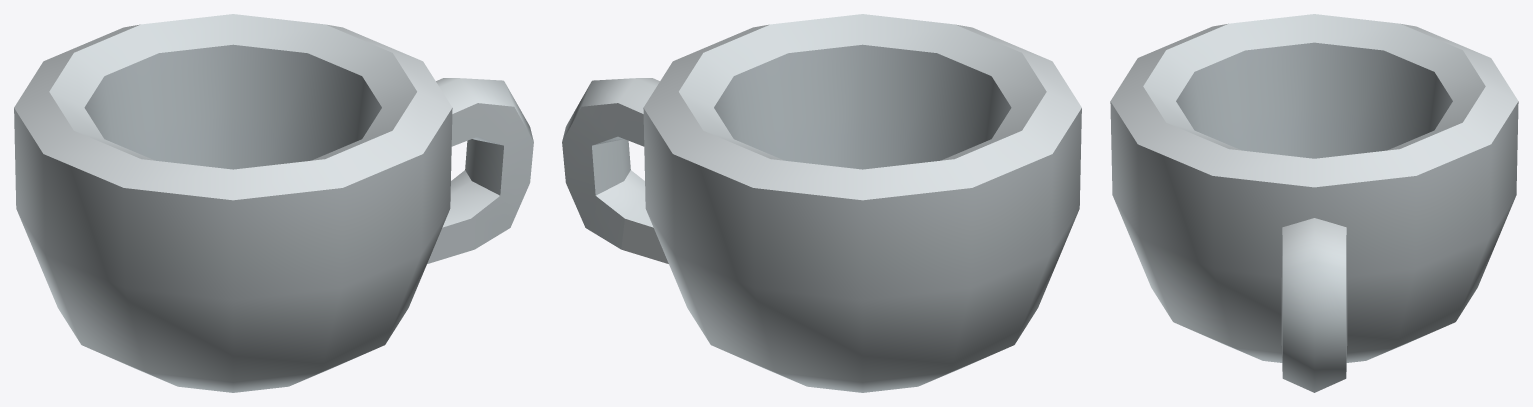
Rendered from mug_A.glb.
3 views of the same model, side by side, from view 1: azimuth 30°, elevation 25°; view 2: azimuth 150°, elevation 25°; view 3: azimuth 270°, elevation 25° (orthographic). The views are drawn at different scales.
Parts seen in each view (by area): view 1: mug_A; view 2: mug_A; view 3: mug_A.
Boxes of the visible parts, x1,y1,x2,y2 form: mug_A: (14,14,533,392); mug_A: (562,14,1081,392); mug_A: (1110,14,1518,392).
Size of the model in its own units: 0.4709 by 0.2352 by 0.3675.
Materials: 1 (1 with a texture image).
